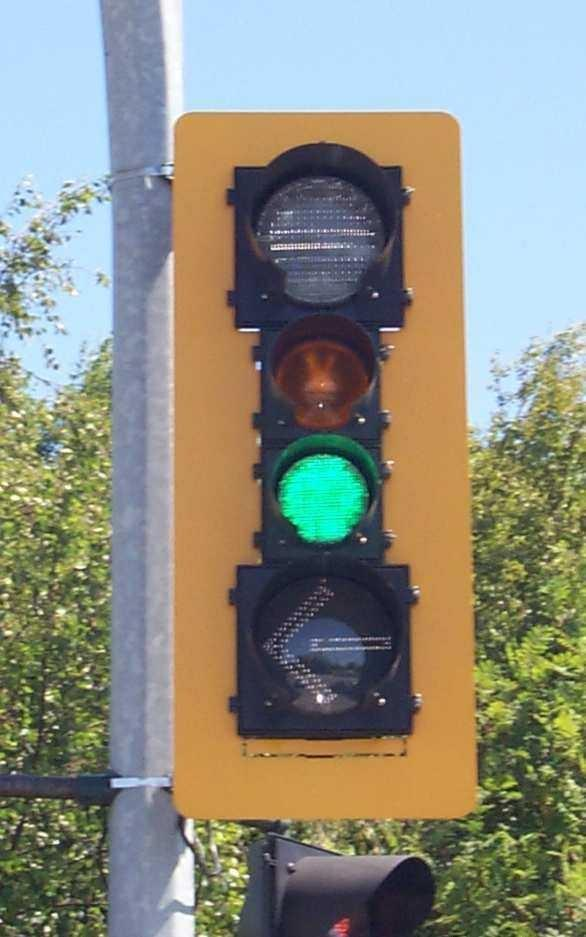3: (246, 559, 418, 720), (256, 155, 410, 316)
red traffic light: (270, 430, 382, 548)
